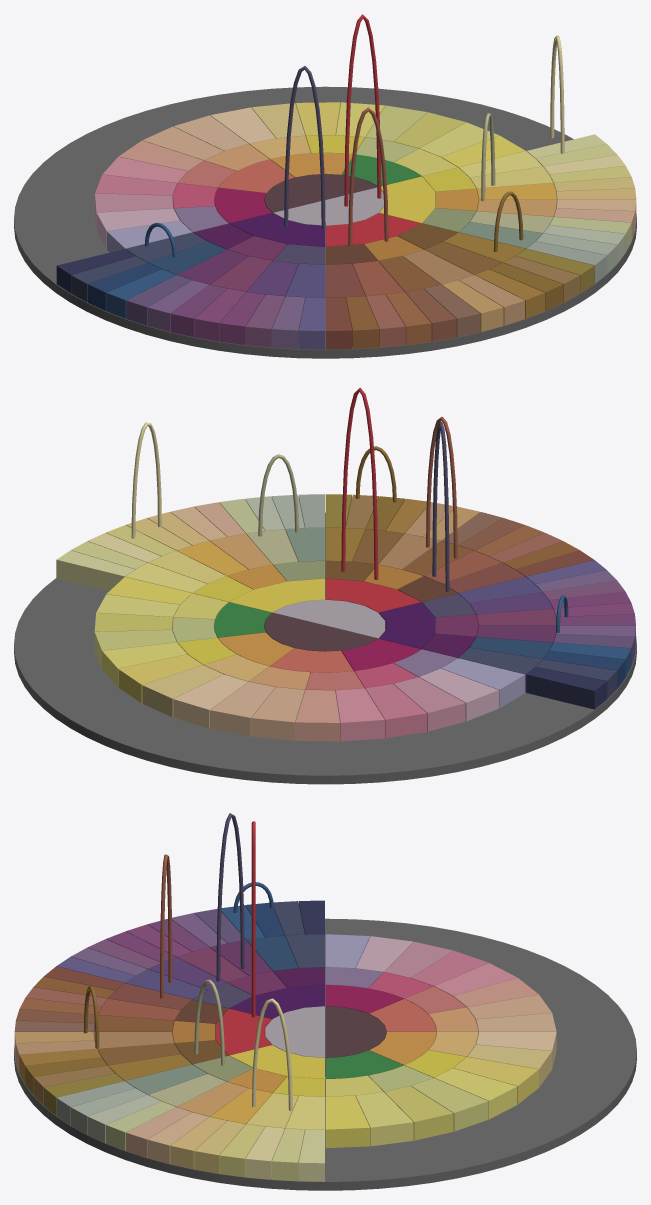
The model's file is wheel_sectors3.gltf.
The picture shows the model from 3 angles, top to bottom: view 1: azimuth 30°, elevation 25°; view 2: azimuth 150°, elevation 25°; view 3: azimuth 270°, elevation 25°; orthographic projection.
Visible parts, largest first — view 1: Curve, Curve.001, Curve.002, Curve.007, Curve.009, Curve.008, BezierCurve.006, BezierCurve.005, Curve.028, Curve.003, Curve.004, Curve.074 (+91 smaller); view 2: Curve, Curve.002, Curve.001, Curve.061, Curve.031, Curve.033, Curve.032, Curve.030, Curve.034, Curve.029, Curve.035, Curve.096 (+90 smaller); view 3: Curve, Curve.002, Curve.001, Curve.042, Curve.041, Curve.040, Curve.039, Curve.038, Curve.009, Curve.007, Curve.008, Curve.037 (+90 smaller).
Boxes of the visible parts, x1,y1,x2,y2 form: Curve: (14, 86, 636, 358); Curve.001: (273, 187, 383, 243); Curve.002: (264, 174, 377, 212); Curve.007: (229, 213, 325, 246); Curve.009: (379, 176, 435, 223); Curve.008: (326, 213, 421, 246); BezierCurve.006: (344, 14, 381, 206); BezierCurve.005: (284, 66, 325, 229); Curve.028: (96, 208, 179, 249); Curve.003: (214, 188, 271, 223); Curve.004: (218, 159, 294, 194); Curve.074: (346, 296, 379, 349); Curve: (14, 512, 636, 784); Curve.002: (264, 613, 377, 651); Curve.001: (273, 599, 385, 638); Curve.061: (526, 667, 606, 709); Curve.031: (335, 688, 384, 741); Curve.033: (251, 687, 304, 740); Curve.032: (295, 690, 339, 741); Curve.030: (365, 684, 427, 738); Curve.034: (210, 682, 275, 736); Curve.029: (393, 677, 465, 731); Curve.035: (173, 674, 247, 728); Curve.096: (56, 550, 135, 591); Curve: (14, 918, 636, 1190); Curve.002: (325, 1006, 386, 1075); Curve.001: (265, 1006, 324, 1057); Curve.042: (325, 1095, 370, 1148); Curve.041: (355, 1092, 413, 1146); Curve.040: (384, 1086, 453, 1140); Curve.039: (411, 1078, 488, 1131); Curve.038: (434, 1068, 517, 1119); Curve.009: (229, 1045, 325, 1097); Curve.007: (229, 985, 324, 1019); Curve.008: (216, 1008, 271, 1055); Curve.037: (453, 1057, 538, 1104).
Size of the model in its own units: 4.91 by 2.07 by 4.9.
